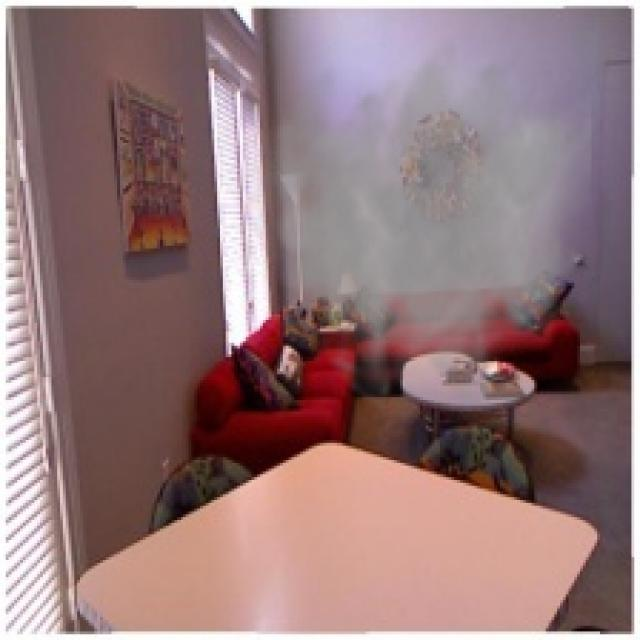Smoke: (237, 31, 592, 412)
